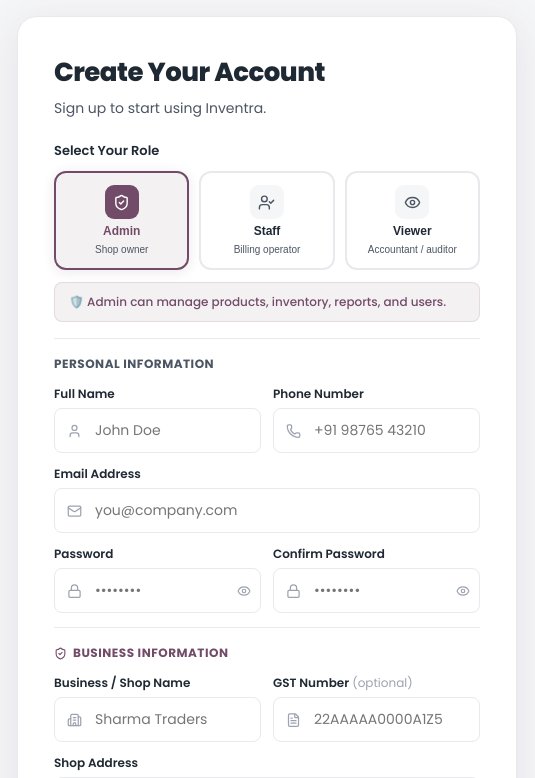
RegisterForm › shows role-specific fields
This screenshot has width=535, height=778.
Click the button "Staff Billing operator" at (267, 220), box [199,171,335,270]
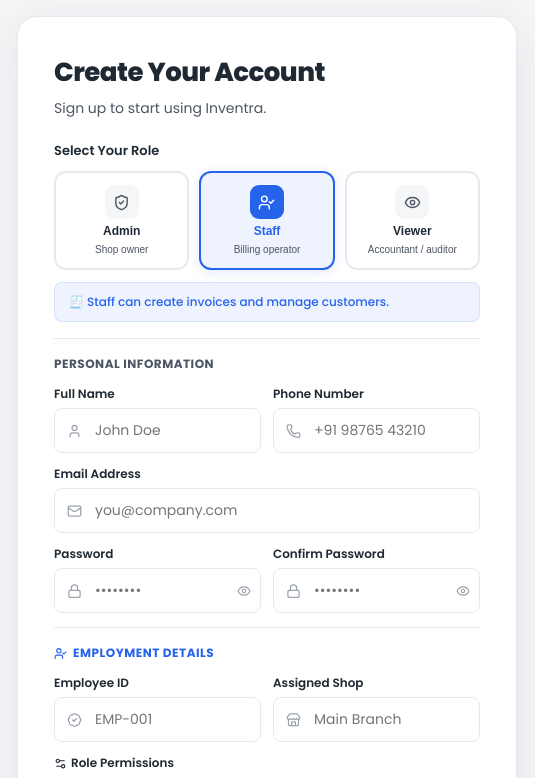
expect the text "Employment Details" is shown: met, box [54,644,214,661]
Click the button "Viewer Accountant / auditor" at (412, 220), box [345,171,480,270]
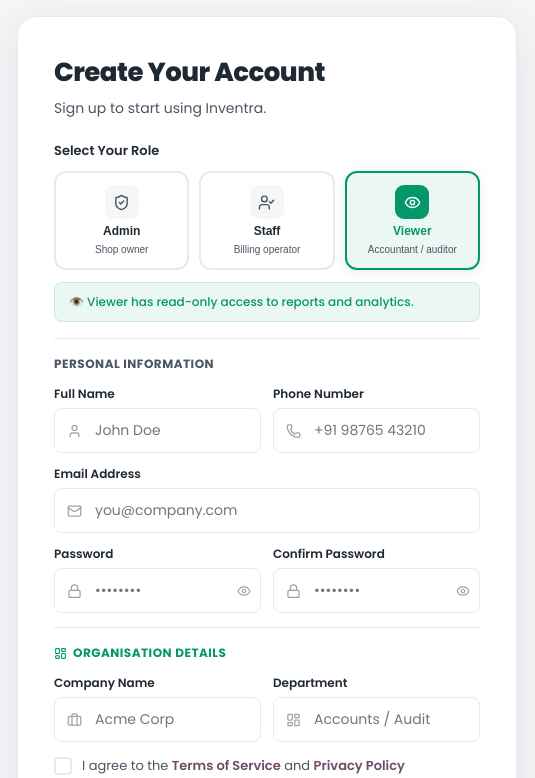
expect the text "Organisation Details" is shown: met, box [54,644,226,661]
